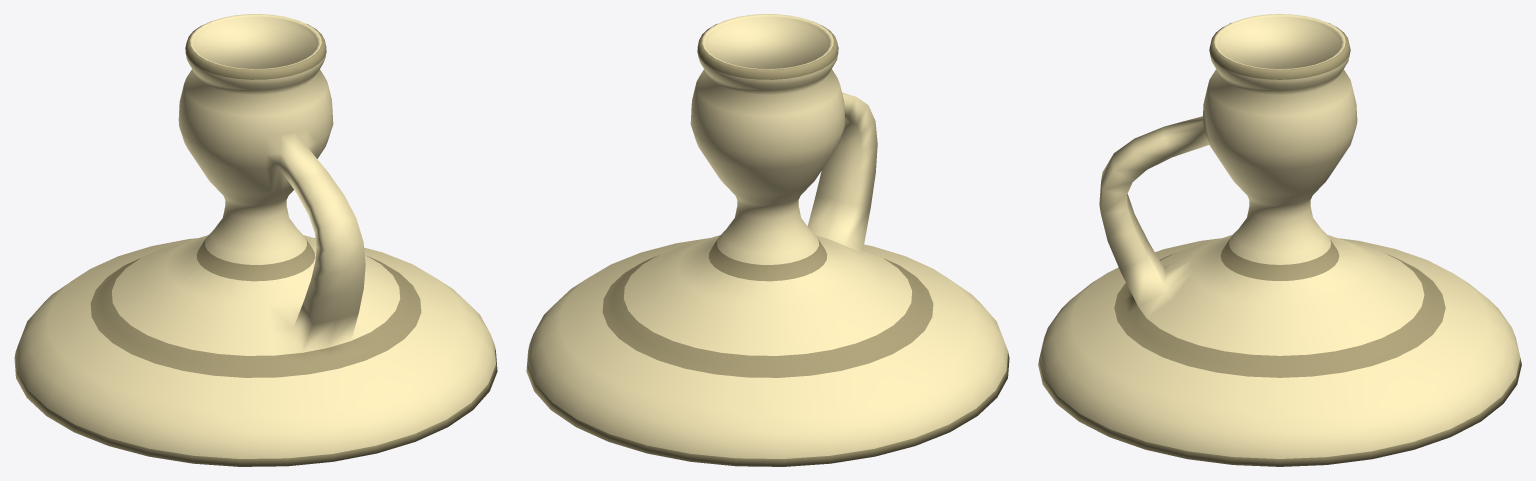
File: Lampartifact.fbx
3 renders of one model, left to right at view 1: azimuth 30°, elevation 25°; view 2: azimuth 150°, elevation 25°; view 3: azimuth 270°, elevation 25°, orthographic.
Parts seen in each view (by area): view 1: Cylinder; view 2: Cylinder; view 3: Cylinder.
Boxes of the visible parts, x1,y1,x2,y2 form: Cylinder: [14, 14, 497, 466]; Cylinder: [526, 14, 1009, 466]; Cylinder: [1038, 14, 1521, 466].
Bounding box in the file's own units: 362 × 266 × 362.
